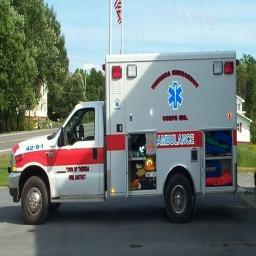Ambulance: (9, 52, 236, 223)
